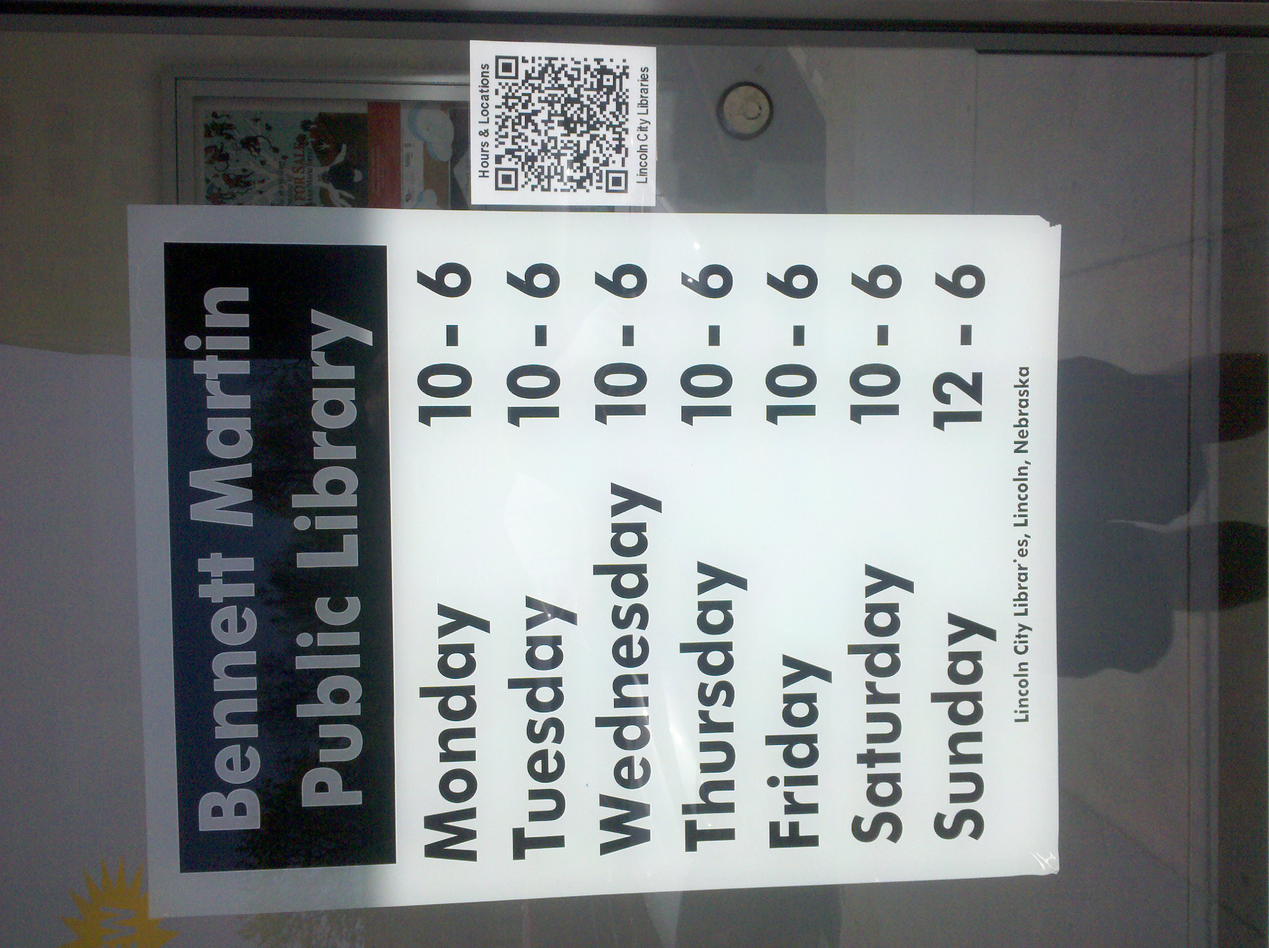QR-CODE: (495, 55, 629, 192)
